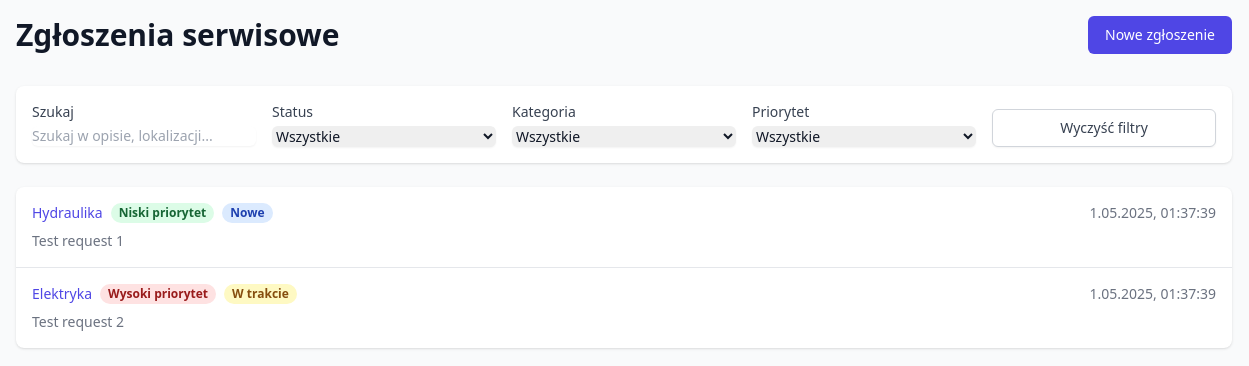
Scenario: ServiceRequestList › searches requests by description
Note: Type in search box
Type "Test request 1" into the field with placeholder "Szukaj w opisie, lokalizacji..." at {"x": 144, "y": 136}, box 32,126 -> 256,146
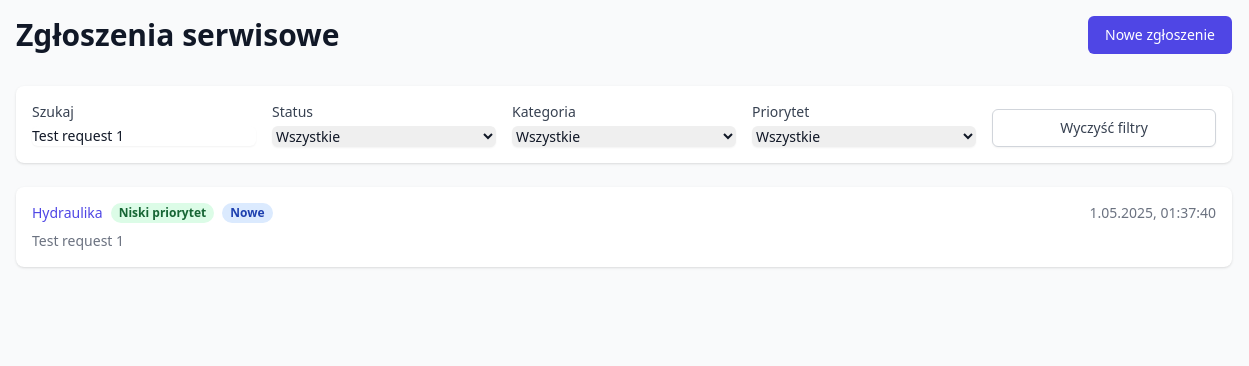
Check: the text "Test request 1" is shown, box 32,231 -> 124,250
Check: the text "Test request 2" is gone
